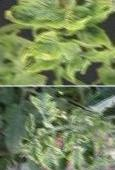Tomato leaf yellow virus: (10, 2, 99, 26), (32, 41, 82, 64), (38, 26, 64, 43), (27, 111, 37, 134), (32, 137, 42, 159), (46, 98, 58, 116), (64, 130, 74, 149)
